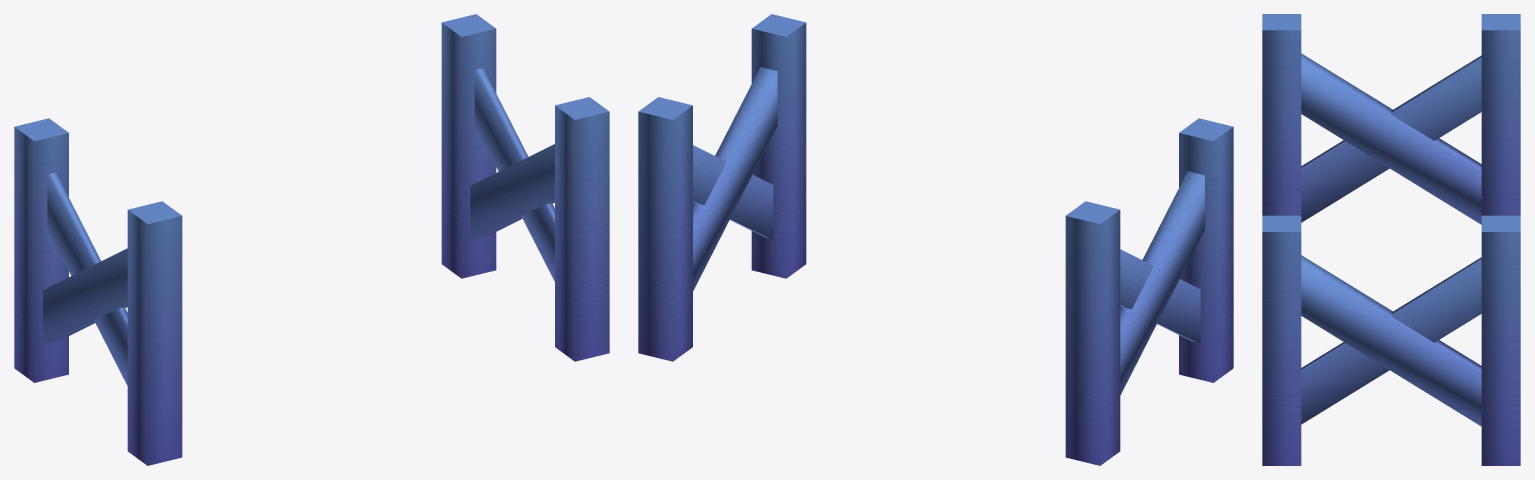
Rendered from supports-wide-diagonal.glb.
3 views of the same model, side by side, from view 1: azimuth 30°, elevation 25°; view 2: azimuth 150°, elevation 25°; view 3: azimuth 270°, elevation 25° (orthographic). The views are drawn at different scales.
Visible parts, largest first — view 1: supports-wide-diagonal; view 2: supports-wide-diagonal; view 3: supports-wide-diagonal.
Boxes of the visible parts, x1=… form: supports-wide-diagonal: x1=14, y1=14, x2=609, y2=465; supports-wide-diagonal: x1=638, y1=14, x2=1233, y2=465; supports-wide-diagonal: x1=1262, y1=14, x2=1520, y2=465.
Size of the model in its own units: 2 by 1 by 1.
Materials: 1 (1 with a texture image).
